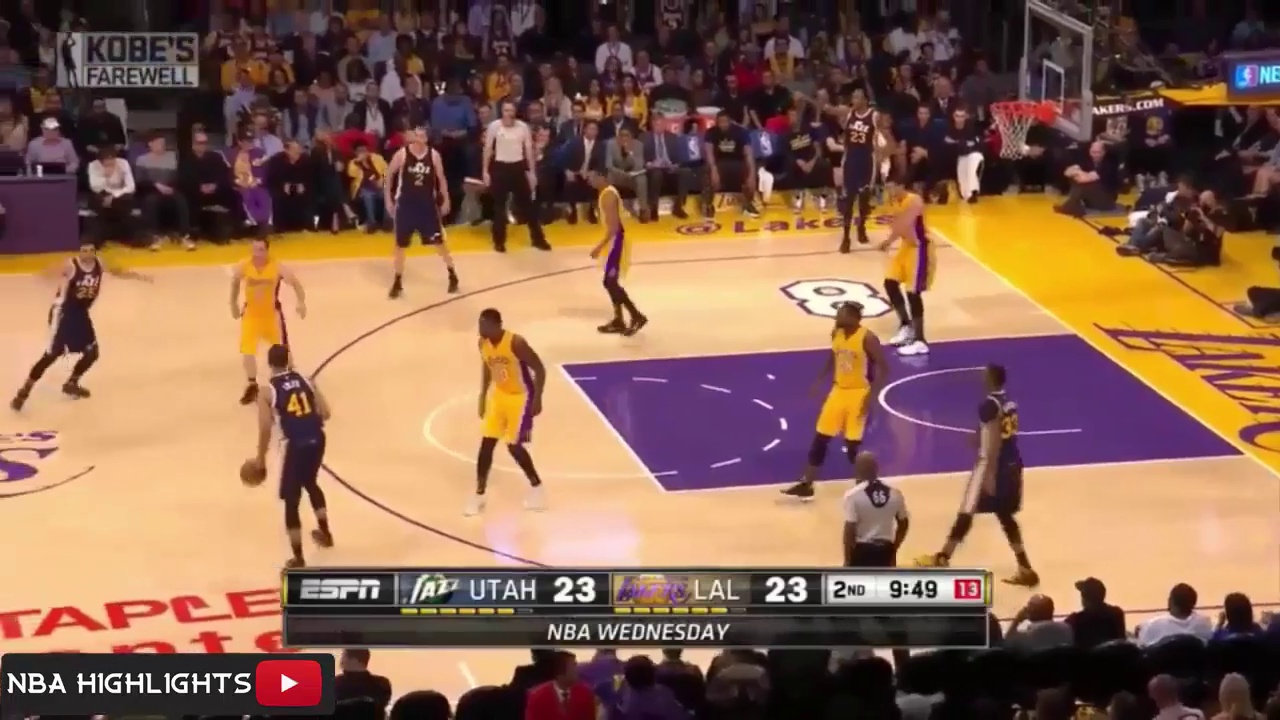jazz: (938, 361, 1042, 585), (238, 355, 340, 575), (29, 238, 150, 420), (376, 113, 467, 308), (806, 85, 878, 248)
lakers: (446, 299, 560, 516), (790, 302, 891, 501), (219, 232, 311, 397), (583, 164, 663, 341), (884, 175, 946, 369)
